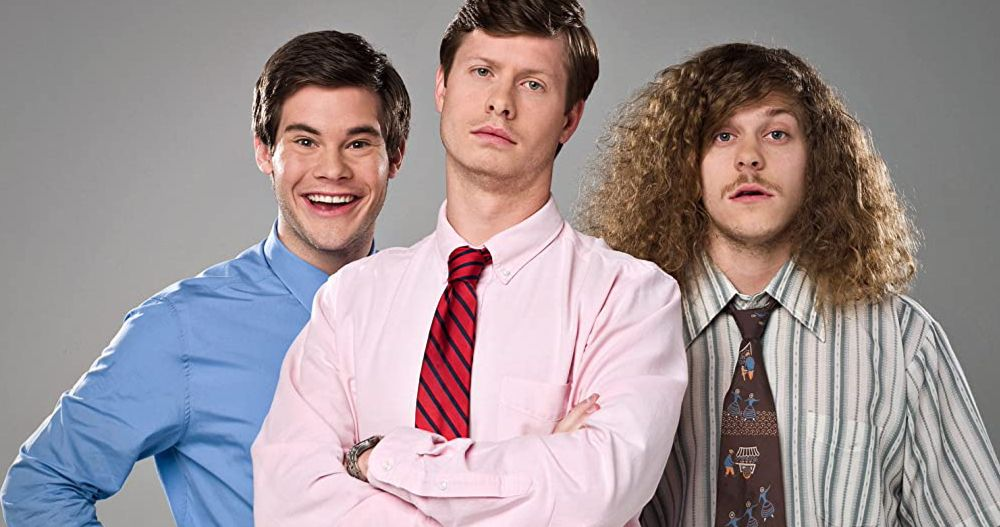Person: (72, 25, 397, 431), (405, 13, 631, 503), (697, 79, 929, 513)
